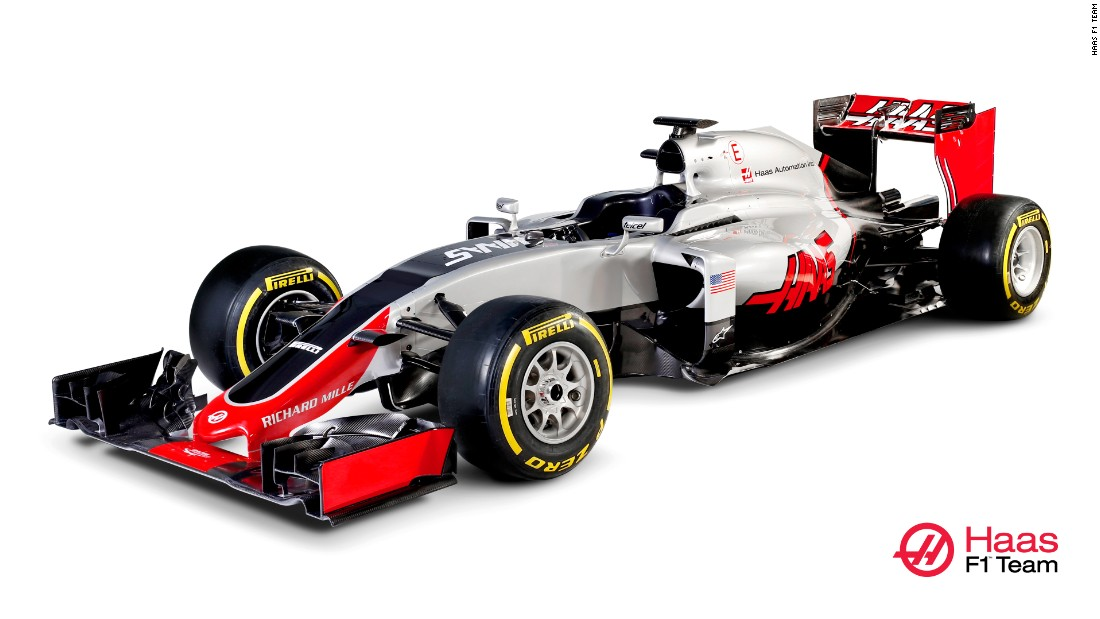f1_car: (37, 73, 1063, 542)
